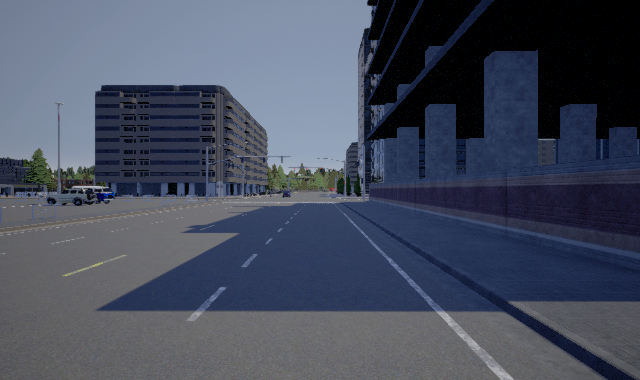vehicle: (45, 186, 98, 205)
